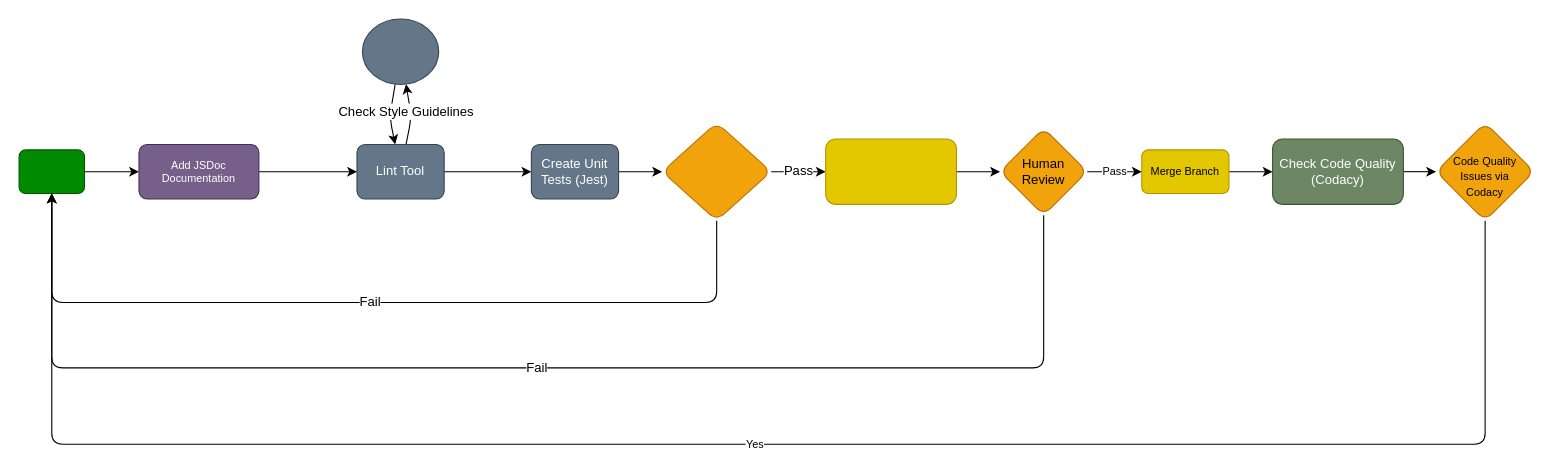
This 1553x472 diagram has some shape labels left out. Here are the shapes that lost their labels. From the top down, the centre of each, then its label:
the point at 400,51: Code Style Docs
the point at 51,171: Code
the point at 716,171: Run Unit Tests Locally
the point at 890,171: Create Pull Request
